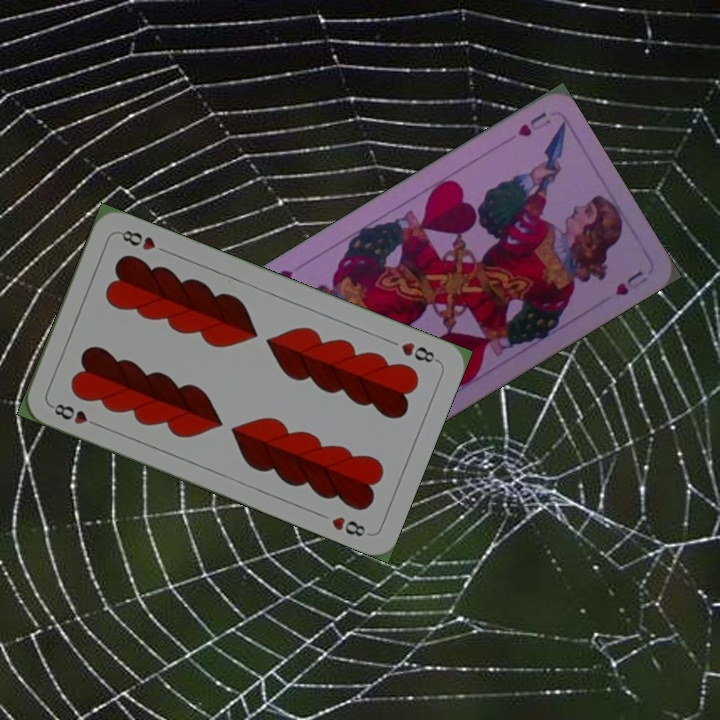H8: (46, 399, 103, 430), (397, 338, 441, 366)
HU: (514, 108, 553, 141)
